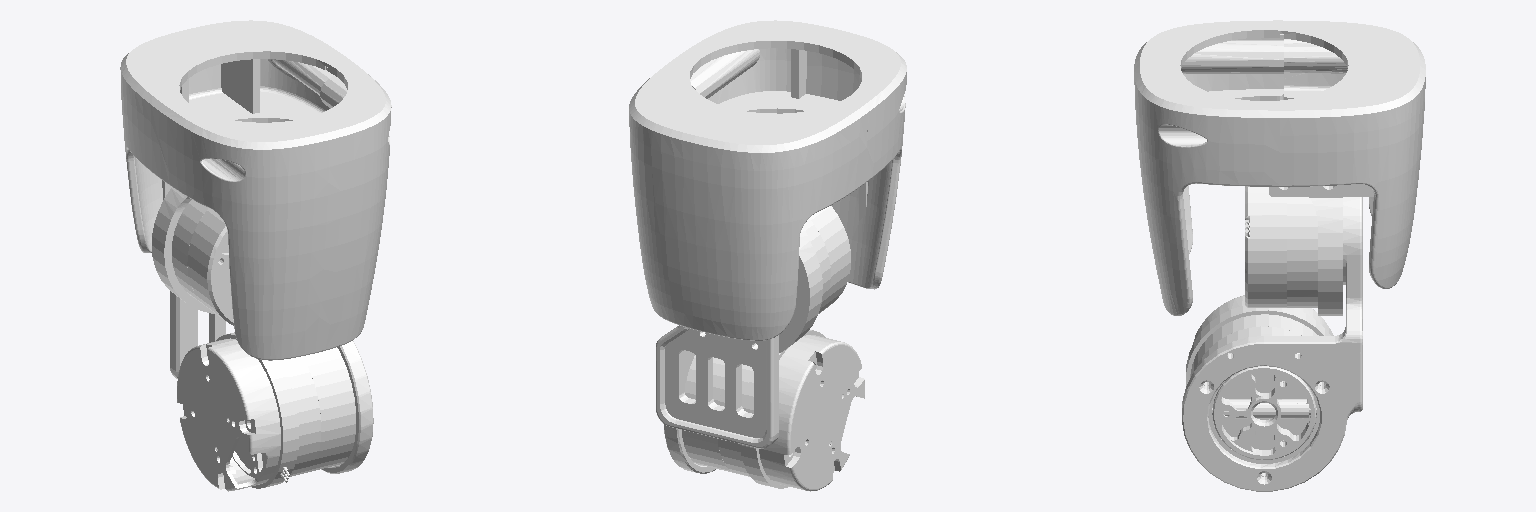
The robot description file, URDF, robot "biped_s4":
<?xml version="1.0" encoding="utf-8"?>
<!-- This URDF was automatically created by SolidWorks to URDF Exporter! Originally created by [author] ([email redacted]) 
     Commit Version: 1.6.0-4-g7f85cfe  Build Version: 1.6.7995.38578
     For more information, please see http://wiki.ros.org/sw_urdf_exporter -->
<robot
  name="biped_s4">
 
  <link
    name="l_hand_yaw">
    <inertial>
      <origin
        xyz="0.000113131262875685 0.00969728110559553 0.0227960708688583"
        rpy="0 0 0" />
      <mass
        value="0.380792" />
      <inertia
        ixx="7.64923971357921E-05"
        ixy="8.51207618055666E-09"
        ixz="-1.40676645868301E-08"
        iyy="0.000122231121933325"
        iyz="1.11226992393513E-06"
        izz="8.44934959384744E-05" />
    </inertial>
    <visual>
      <origin
        xyz="0 0 0"
        rpy="0 0 0" />
      <geometry>
        <mesh
          filename="../meshes/l_hand_yaw.obj" />
      </geometry>
      <material
        name="">
        <color
          rgba="1 1 1 1" />
      </material>
    </visual>
    <!-- <collision>
      <origin
        xyz="0 0 0"
        rpy="0 0 0" />
      <geometry>
        <mesh
          filename="../meshes/l_hand_yaw.obj" />
      </geometry>
    </collision> -->
  </link>
    
  <link
    name="l_hand_pitch">
    <inertial>
      <origin
        xyz="0.00810609772930763 0.00490163171050539 -0.0527751110917489"
        rpy="0 0 0" />
      <mass
        value="0.376651" />
      <inertia
        ixx="4.77321490368476E-05"
        ixy="3.05261917457108E-06"
        ixz="4.77827164947653E-06"
        iyy="3.43814769749137E-05"
        iyz="-4.59311499587152E-06"
        izz="2.49955336560133E-05" />
    </inertial>
    <visual>
      <origin
        xyz="0 0 0"
        rpy="0 0 0" />
      <geometry>
        <mesh
          filename="../meshes/l_hand_pitch.obj" />
      </geometry>
      <material
        name="">
        <color
          rgba="1 1 1 1" />
      </material>
    </visual>
    <!-- <collision>
      <origin
        xyz="0 0 0"
        rpy="0 0 0" />
      <geometry>
        <mesh
          filename="../meshes/l_hand_pitch.obj" />
      </geometry>
    </collision> -->
  </link>
  <joint
    name="l_hand_pitch"
    type="continuous">
    <origin
      xyz="0 0 0"
      rpy="0 0 0" />
    <parent
      link="l_hand_yaw" />
    <child
      link="l_hand_pitch" />
    <axis
      xyz="0 1 0" />
  </joint>
  <transmission type="SimpleTransmission">
    <joint name="l_hand_pitch" />
    <actuator name="l_hand_pitch_motor" />
  </transmission>
  
  <link
    name="l_hand_roll">
    <inertial>
      <origin
        xyz="0.00396050555698803 0.00946265387749012 -0.066602176591173"
        rpy="0 0 0" />
      <mass
        value="0.704669" />
      <inertia
        ixx="9.13246737942629E-05"
        ixy="3.25649345932988E-07"
        ixz="-4.78728976781085E-06"
        iyy="0.000139866613946359"
        iyz="1.1925397914412E-05"
        izz="0.000125082116428502" />
    </inertial>
    <visual>
      <origin
        xyz="0 0 0"
        rpy="0 0 0" />
      <geometry>
        <mesh
          filename="../meshes/l_hand_roll.obj" />
      </geometry>
      <material
        name="">
        <color
          rgba="1 1 1 1" />
      </material>
    </visual>
    <!-- <collision>
      <origin
        xyz="0 0 0"
        rpy="0 0 0" />
      <geometry>
        <mesh
          filename="../meshes/l_hand_roll.obj" />
      </geometry>
    </collision> -->
  </link>
  <joint
    name="l_hand_roll"
    type="continuous">
    <origin
      xyz="0 0 -0.058999997180792"
      rpy="0 0 0" />
    <parent
      link="l_hand_pitch" />
    <child
      link="l_hand_roll" />
    <axis
      xyz="1 0 0" />
  </joint>
  <transmission type="SimpleTransmission">
    <joint name="l_hand_roll" />
    <actuator name="l_hand_roll_motor" />
  </transmission>
  
  
</robot>

--- What the picture shows (computed from the rendered views, not written in the file) ---
Views: 3 orthographic renders of the robot side by side, from view 1: azimuth 30°, elevation 25°; view 2: azimuth 150°, elevation 25°; view 3: azimuth 270°, elevation 25°.
Robot: biped_s4 — 3 links, 2 joints (2 continuous); root link l_hand_yaw; default pose: every joint at zero.
Visible links, largest first — view 1: l_hand_yaw, l_hand_pitch; view 2: l_hand_yaw, l_hand_pitch; view 3: l_hand_yaw, l_hand_pitch, l_hand_roll.
Link boxes in pixels (bbox=[...]): l_hand_yaw: bbox=[120, 20, 391, 360]; l_hand_pitch: bbox=[170, 291, 373, 491]; l_hand_yaw: bbox=[629, 20, 906, 352]; l_hand_pitch: bbox=[656, 325, 864, 491]; l_hand_yaw: bbox=[1134, 20, 1425, 315]; l_hand_pitch: bbox=[1182, 197, 1362, 491]; l_hand_roll: bbox=[1212, 399, 1316, 418].
Size in the robot's own frame: 0.08 by 0.104 by 0.1546 metres.
Meshes: 3 distinct files referenced, 3 mesh visuals loaded (3 OBJ).
